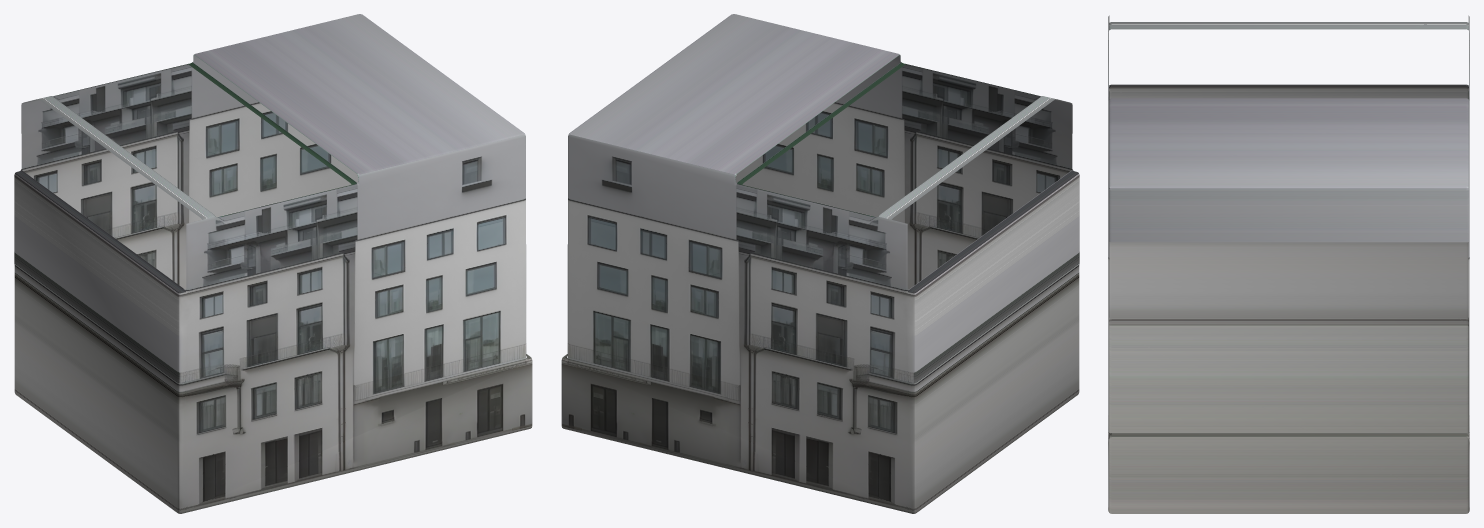
File: Facade4.fbx
3 views of the same model, side by side, from view 1: azimuth 30°, elevation 25°; view 2: azimuth 150°, elevation 25°; view 3: azimuth 270°, elevation 25° (orthographic). The views are drawn at different scales.
Visible parts, largest first — view 1: fasady_10 2; view 2: fasady_10 2; view 3: fasady_10 2.
Boxes of the visible parts, left/top/right/bottom form: fasady_10 2: left=14, top=14, right=532, bottom=513; fasady_10 2: left=561, top=14, right=1079, bottom=513; fasady_10 2: left=1108, top=15, right=1469, bottom=513.
Size of the model in its own units: 124 by 99.08 by 100.
1 material, 1 textured.
